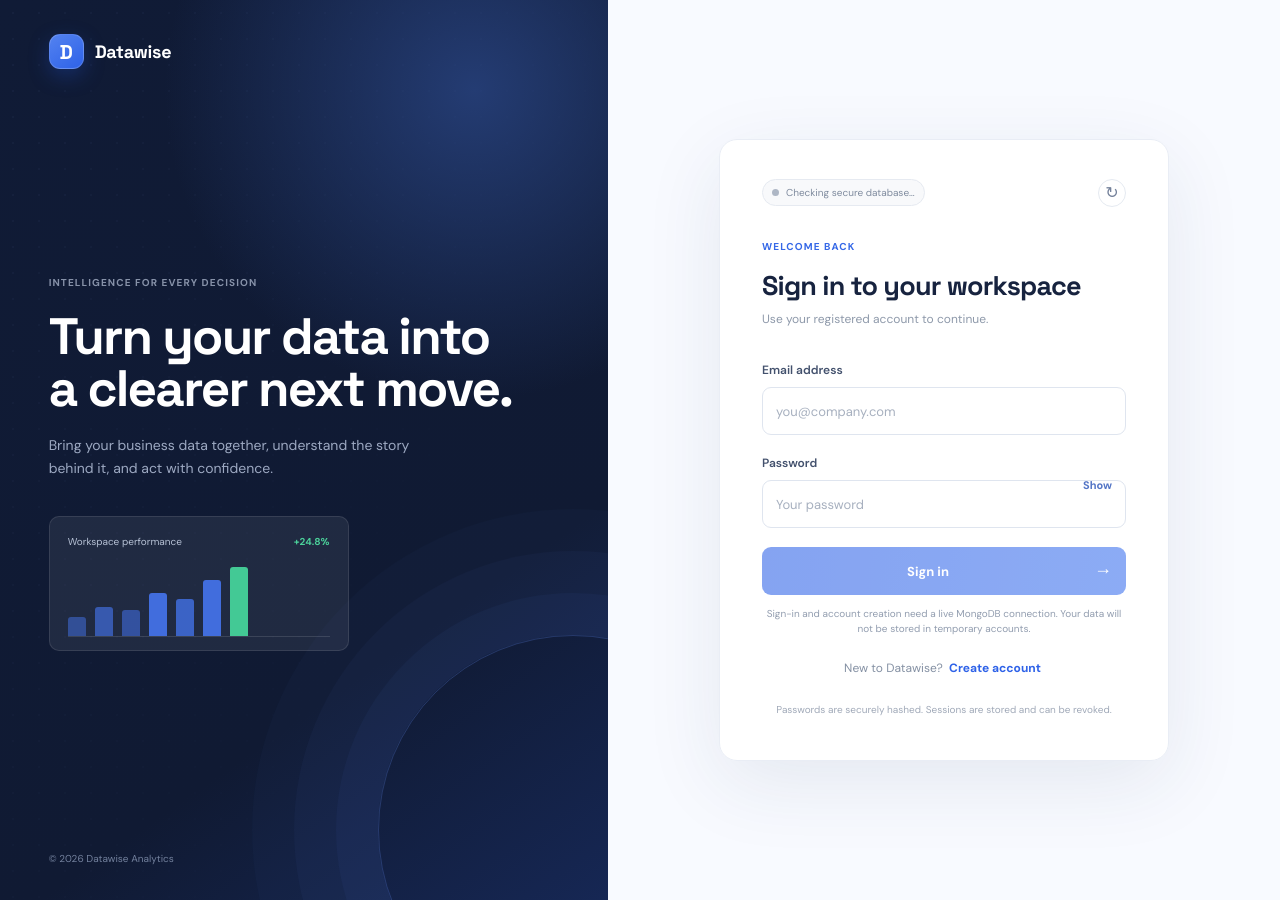
Test: verifies signup with the code sent by email
Click the button "Create account": click(995, 668) [946, 657, 1044, 679]
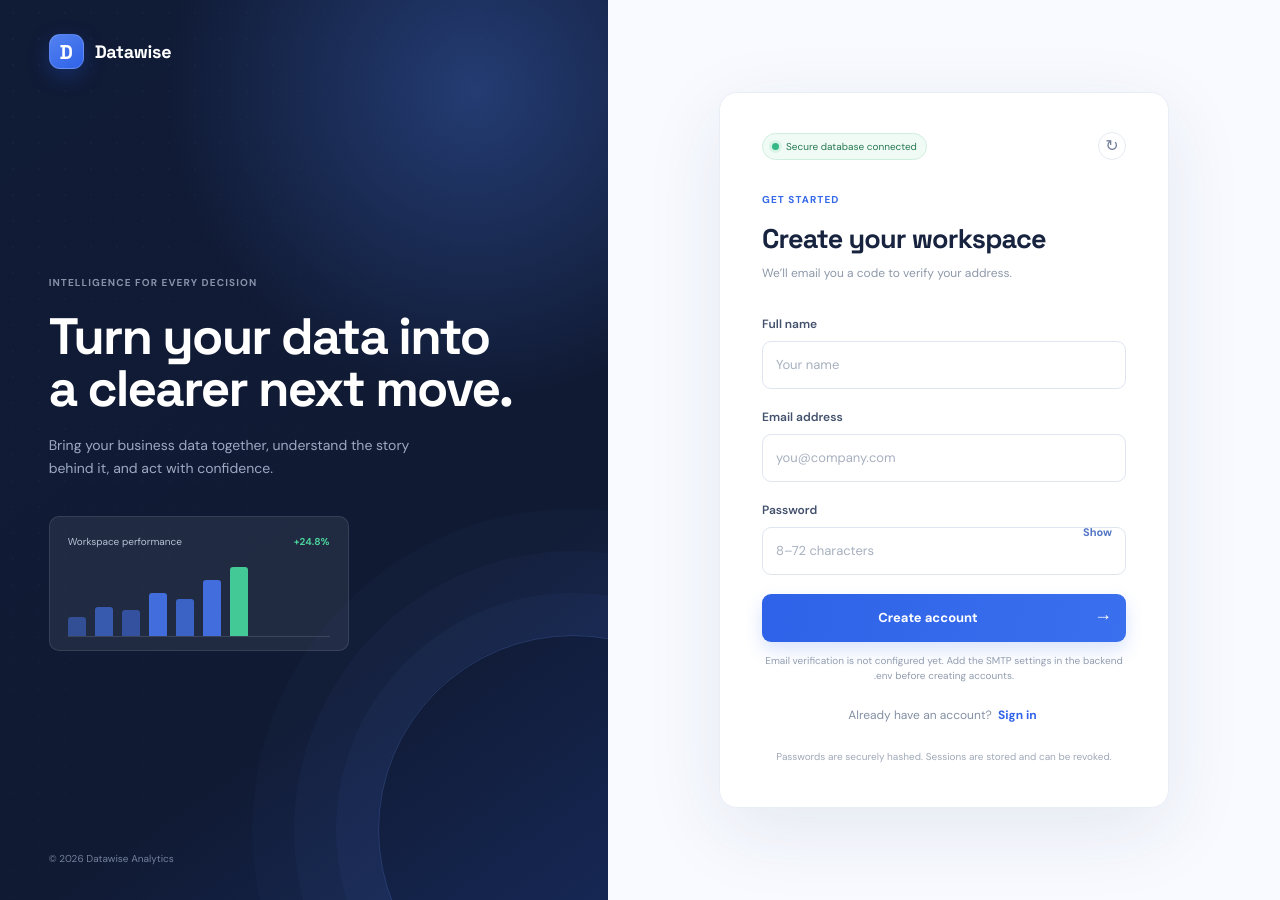
In the field labelled "Full name": (944, 365) [762, 341, 1126, 389], type "New User"
In the field labelled "Email address": (944, 458) [762, 434, 1126, 482], type "new@example.com"
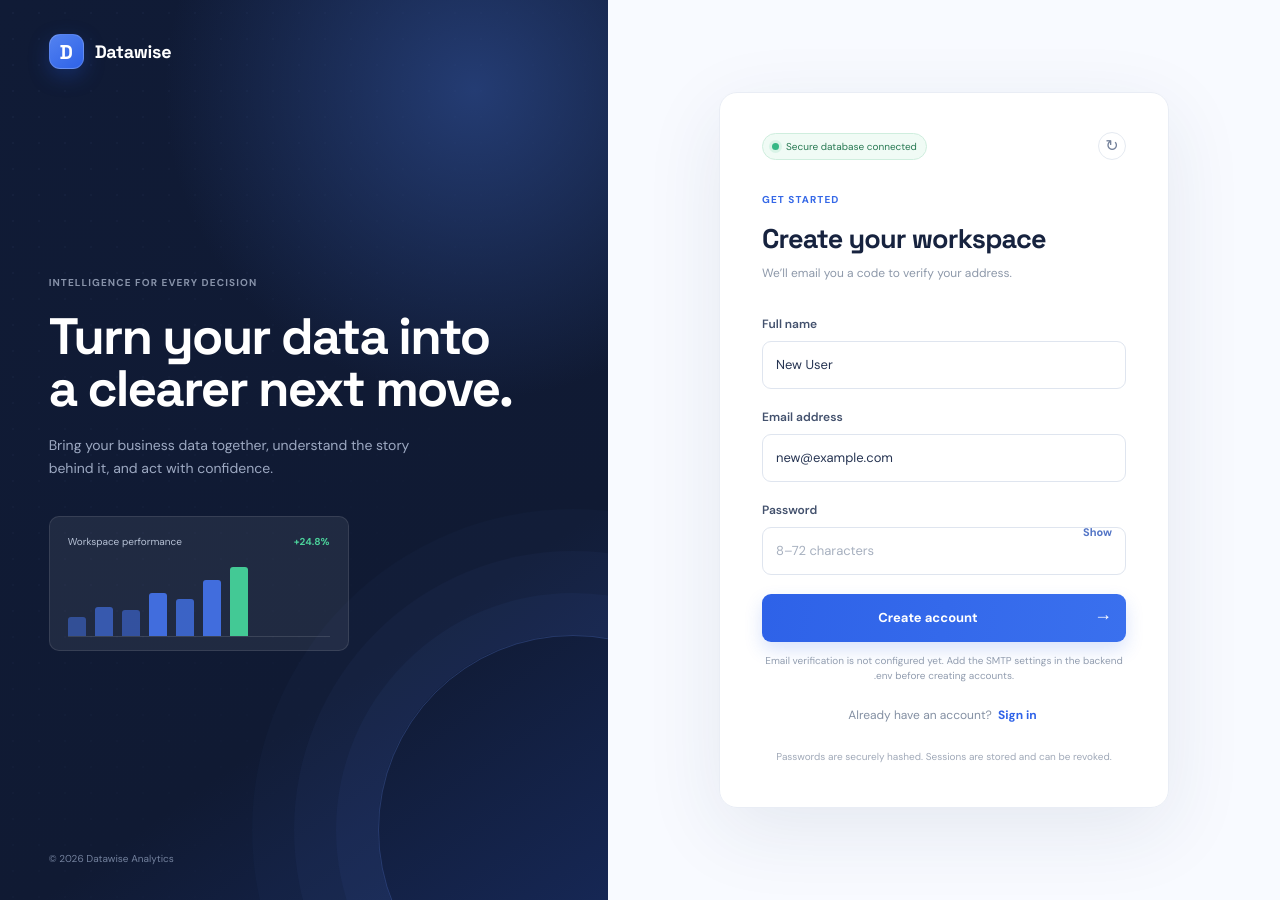
In the password field labelled "Password": (944, 551) [762, 527, 1126, 575], type "password123"
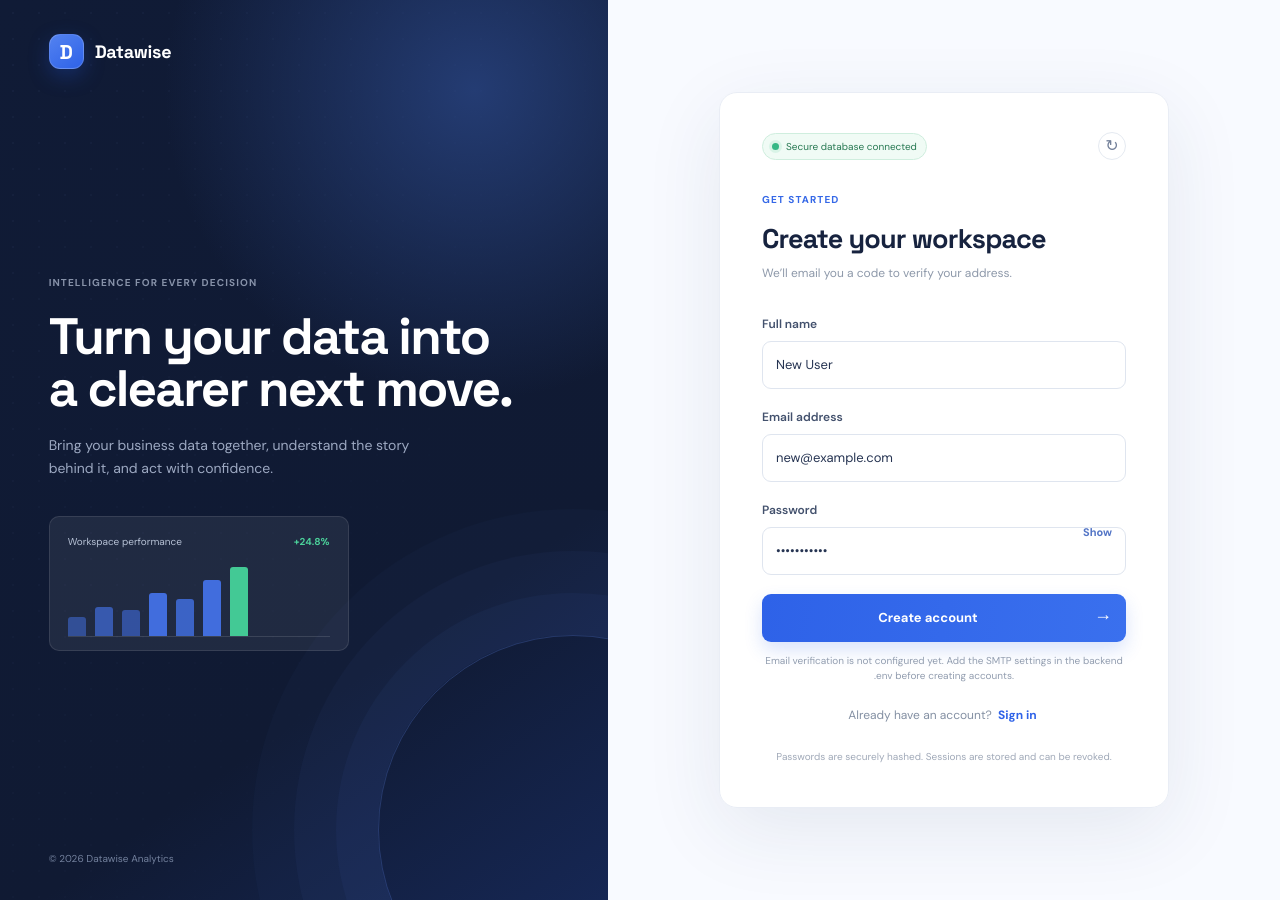
Click the button "Create account →": click(944, 618) [762, 594, 1126, 642]
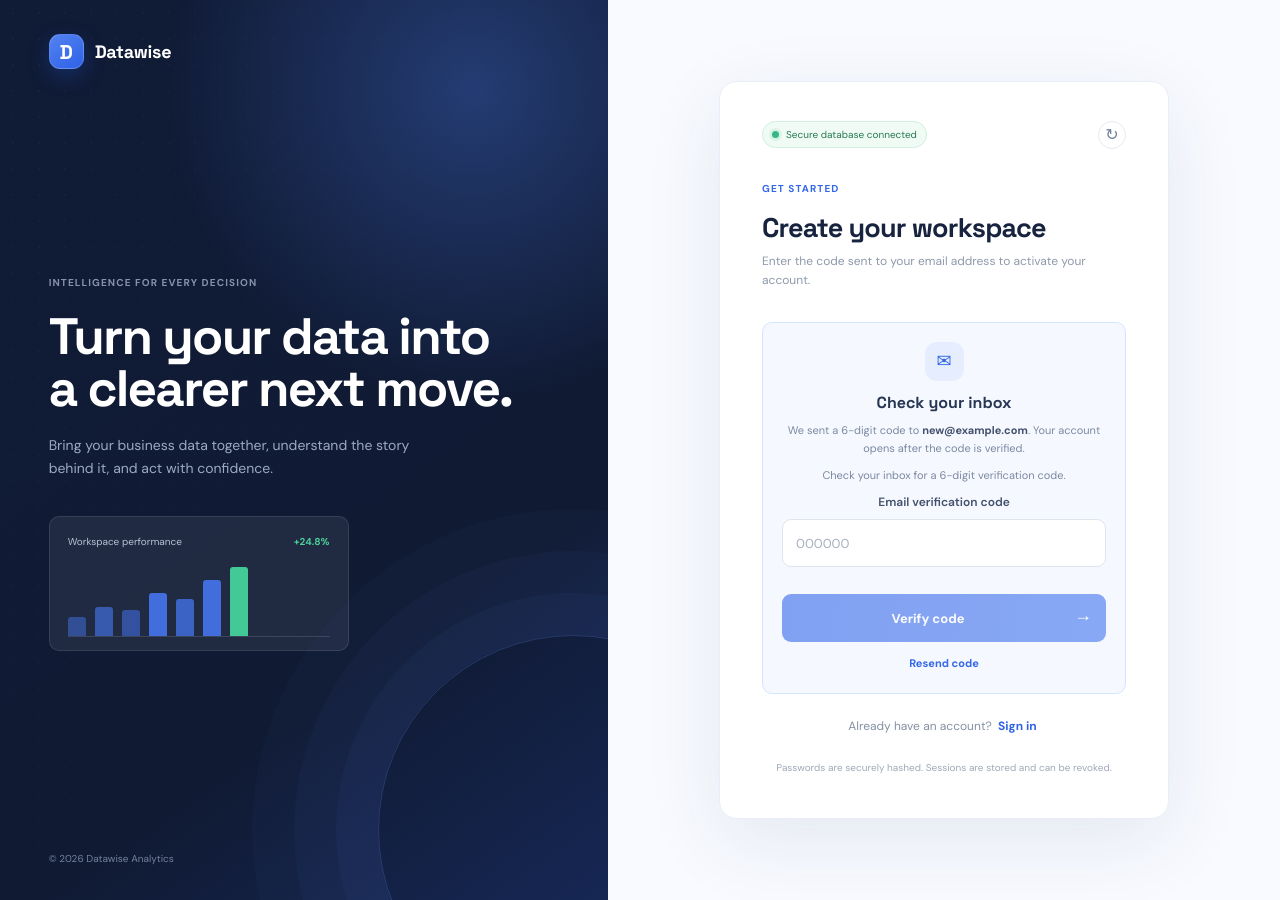
Result: the text "We sent a 6-digit code" is shown at [788, 424, 922, 438]
In the field labelled "Email verification code": (944, 543) [782, 519, 1106, 567], type "123456"
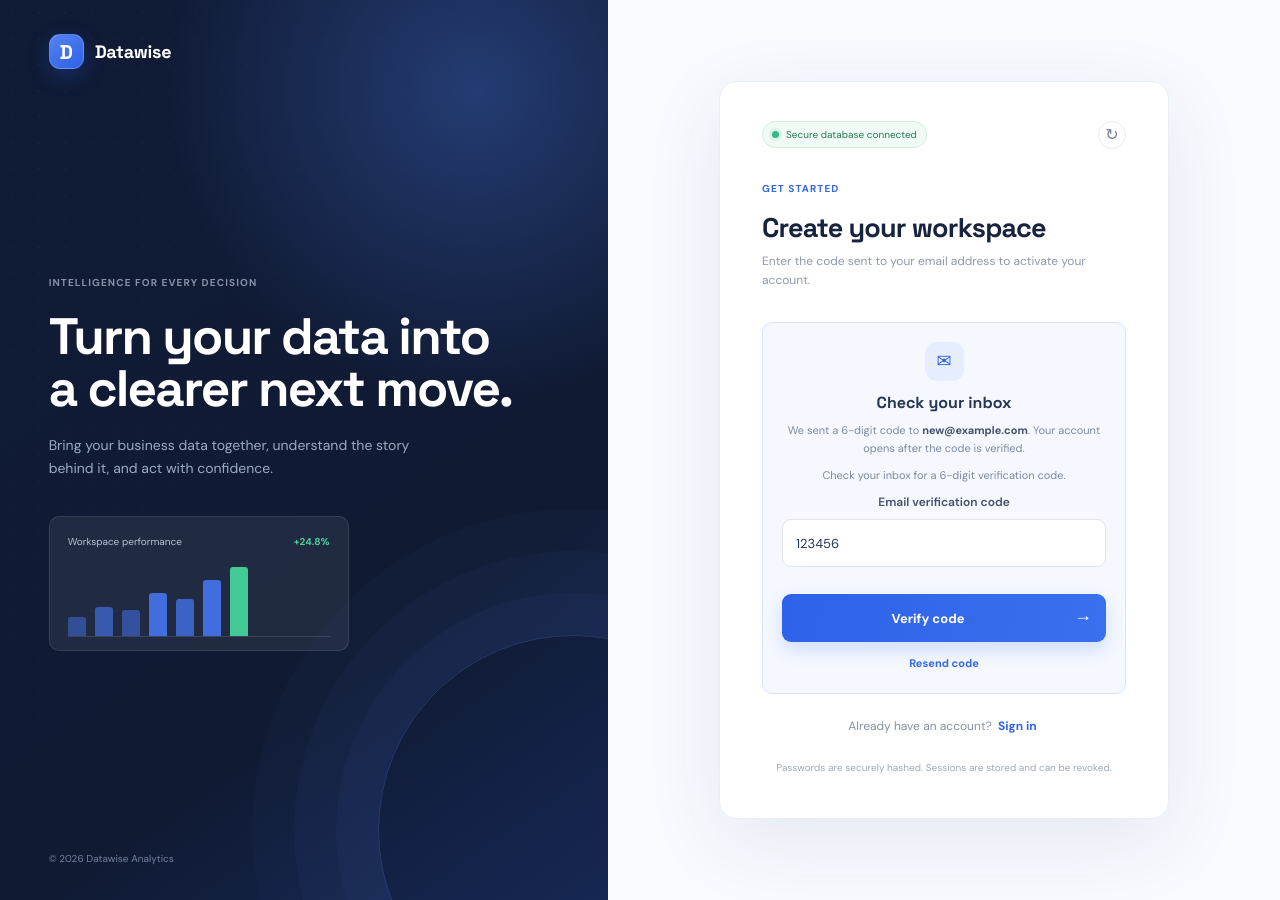
Click the button "Verify code →": click(944, 618) [782, 594, 1106, 642]
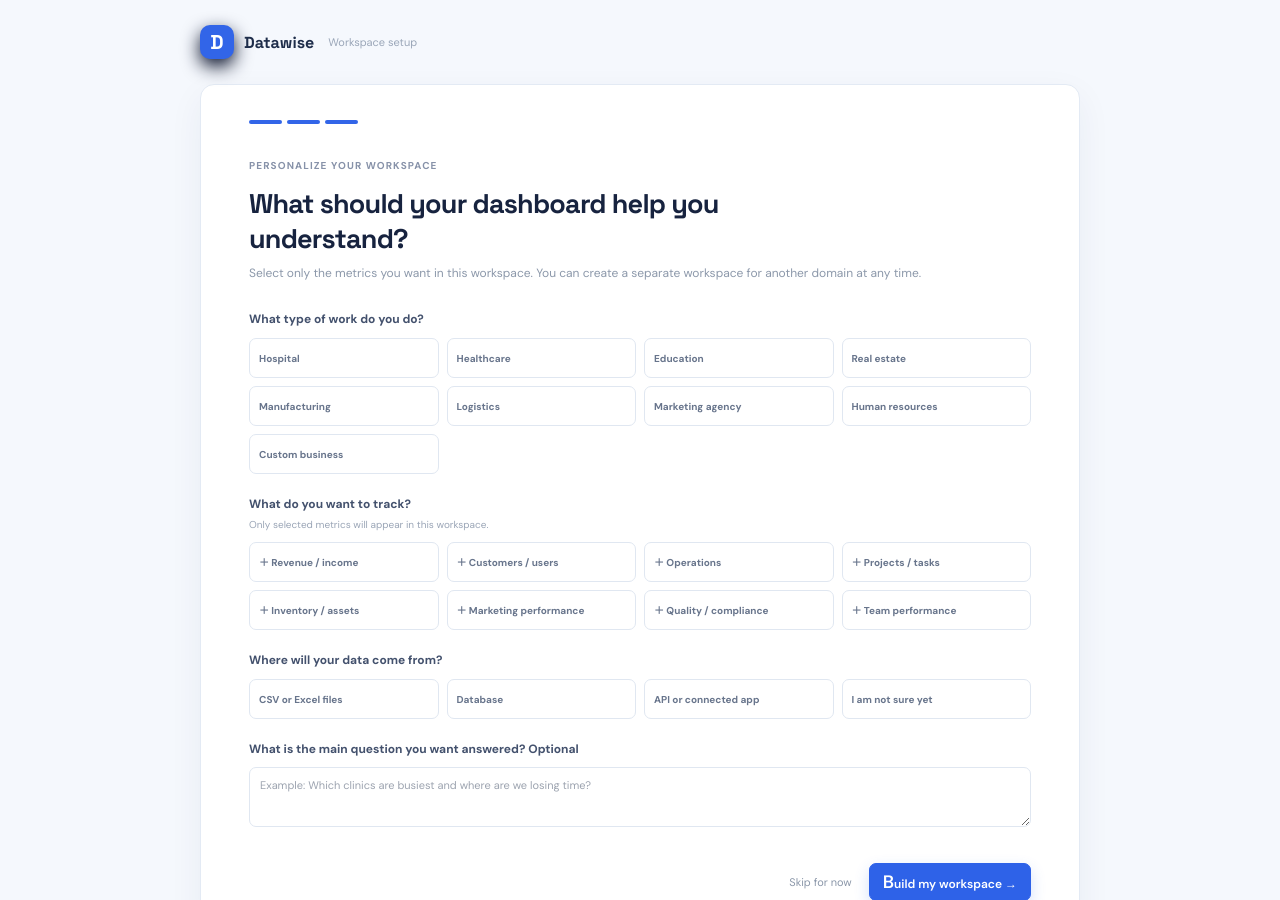
Result: the heading "What should your dashboard help you understand?" is shown at [249, 186, 719, 256]
